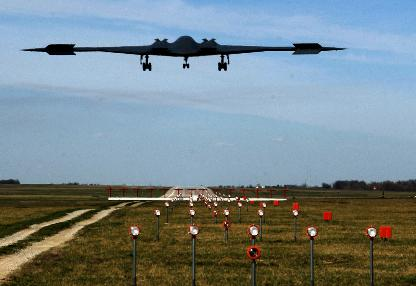B1: (20, 35, 348, 71)
